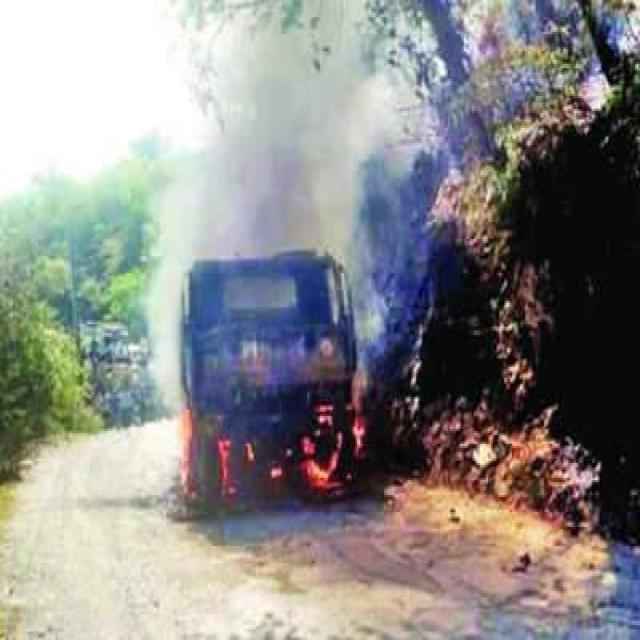accident: (181, 252, 360, 504)
